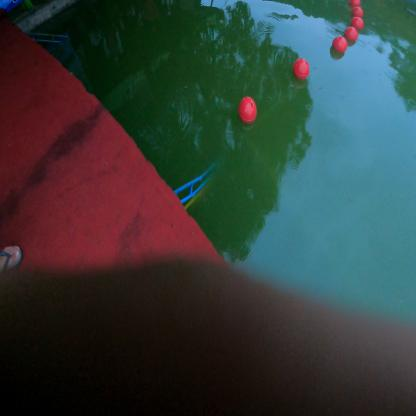red_buoy: (236, 92, 259, 130), (291, 51, 313, 86), (330, 32, 349, 62), (344, 26, 360, 46), (350, 12, 364, 33), (350, 2, 364, 19)
